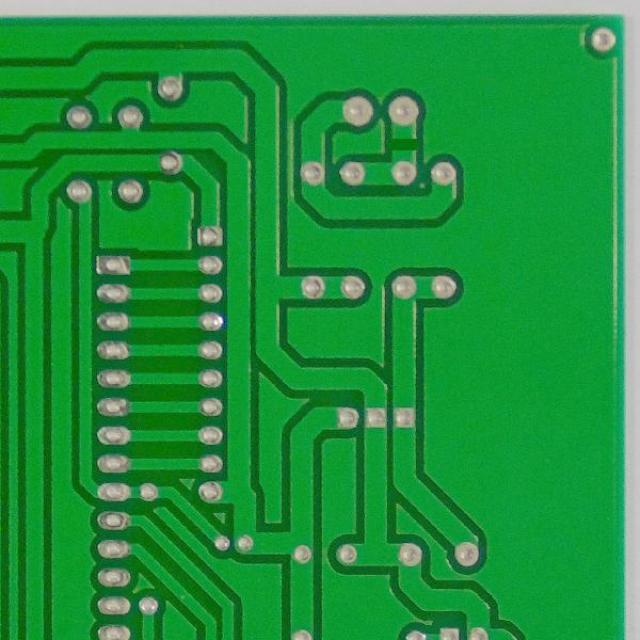Open_Circuit: (388, 130, 422, 157)
